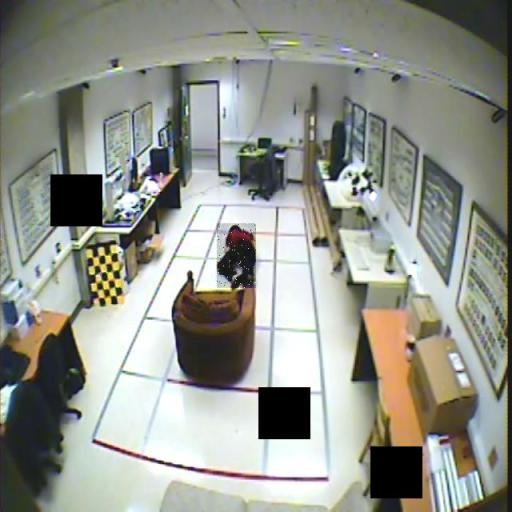Fall: (217, 223, 256, 288)
